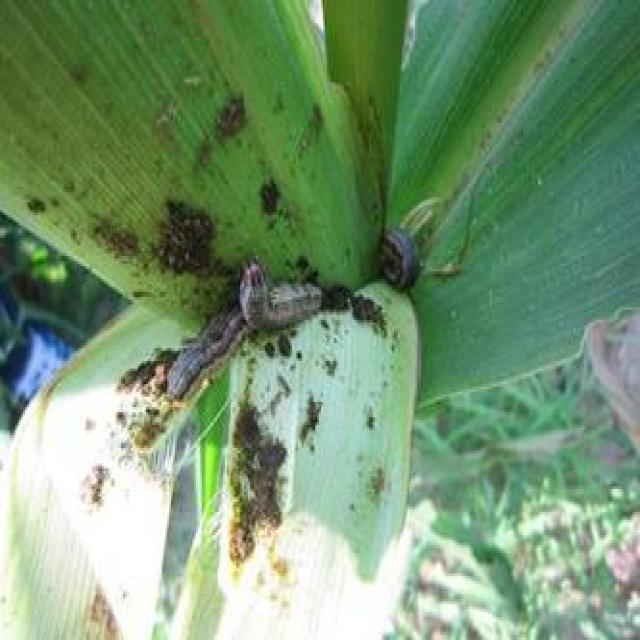pest: (173, 301, 242, 403), (242, 269, 327, 330), (385, 231, 425, 296)
